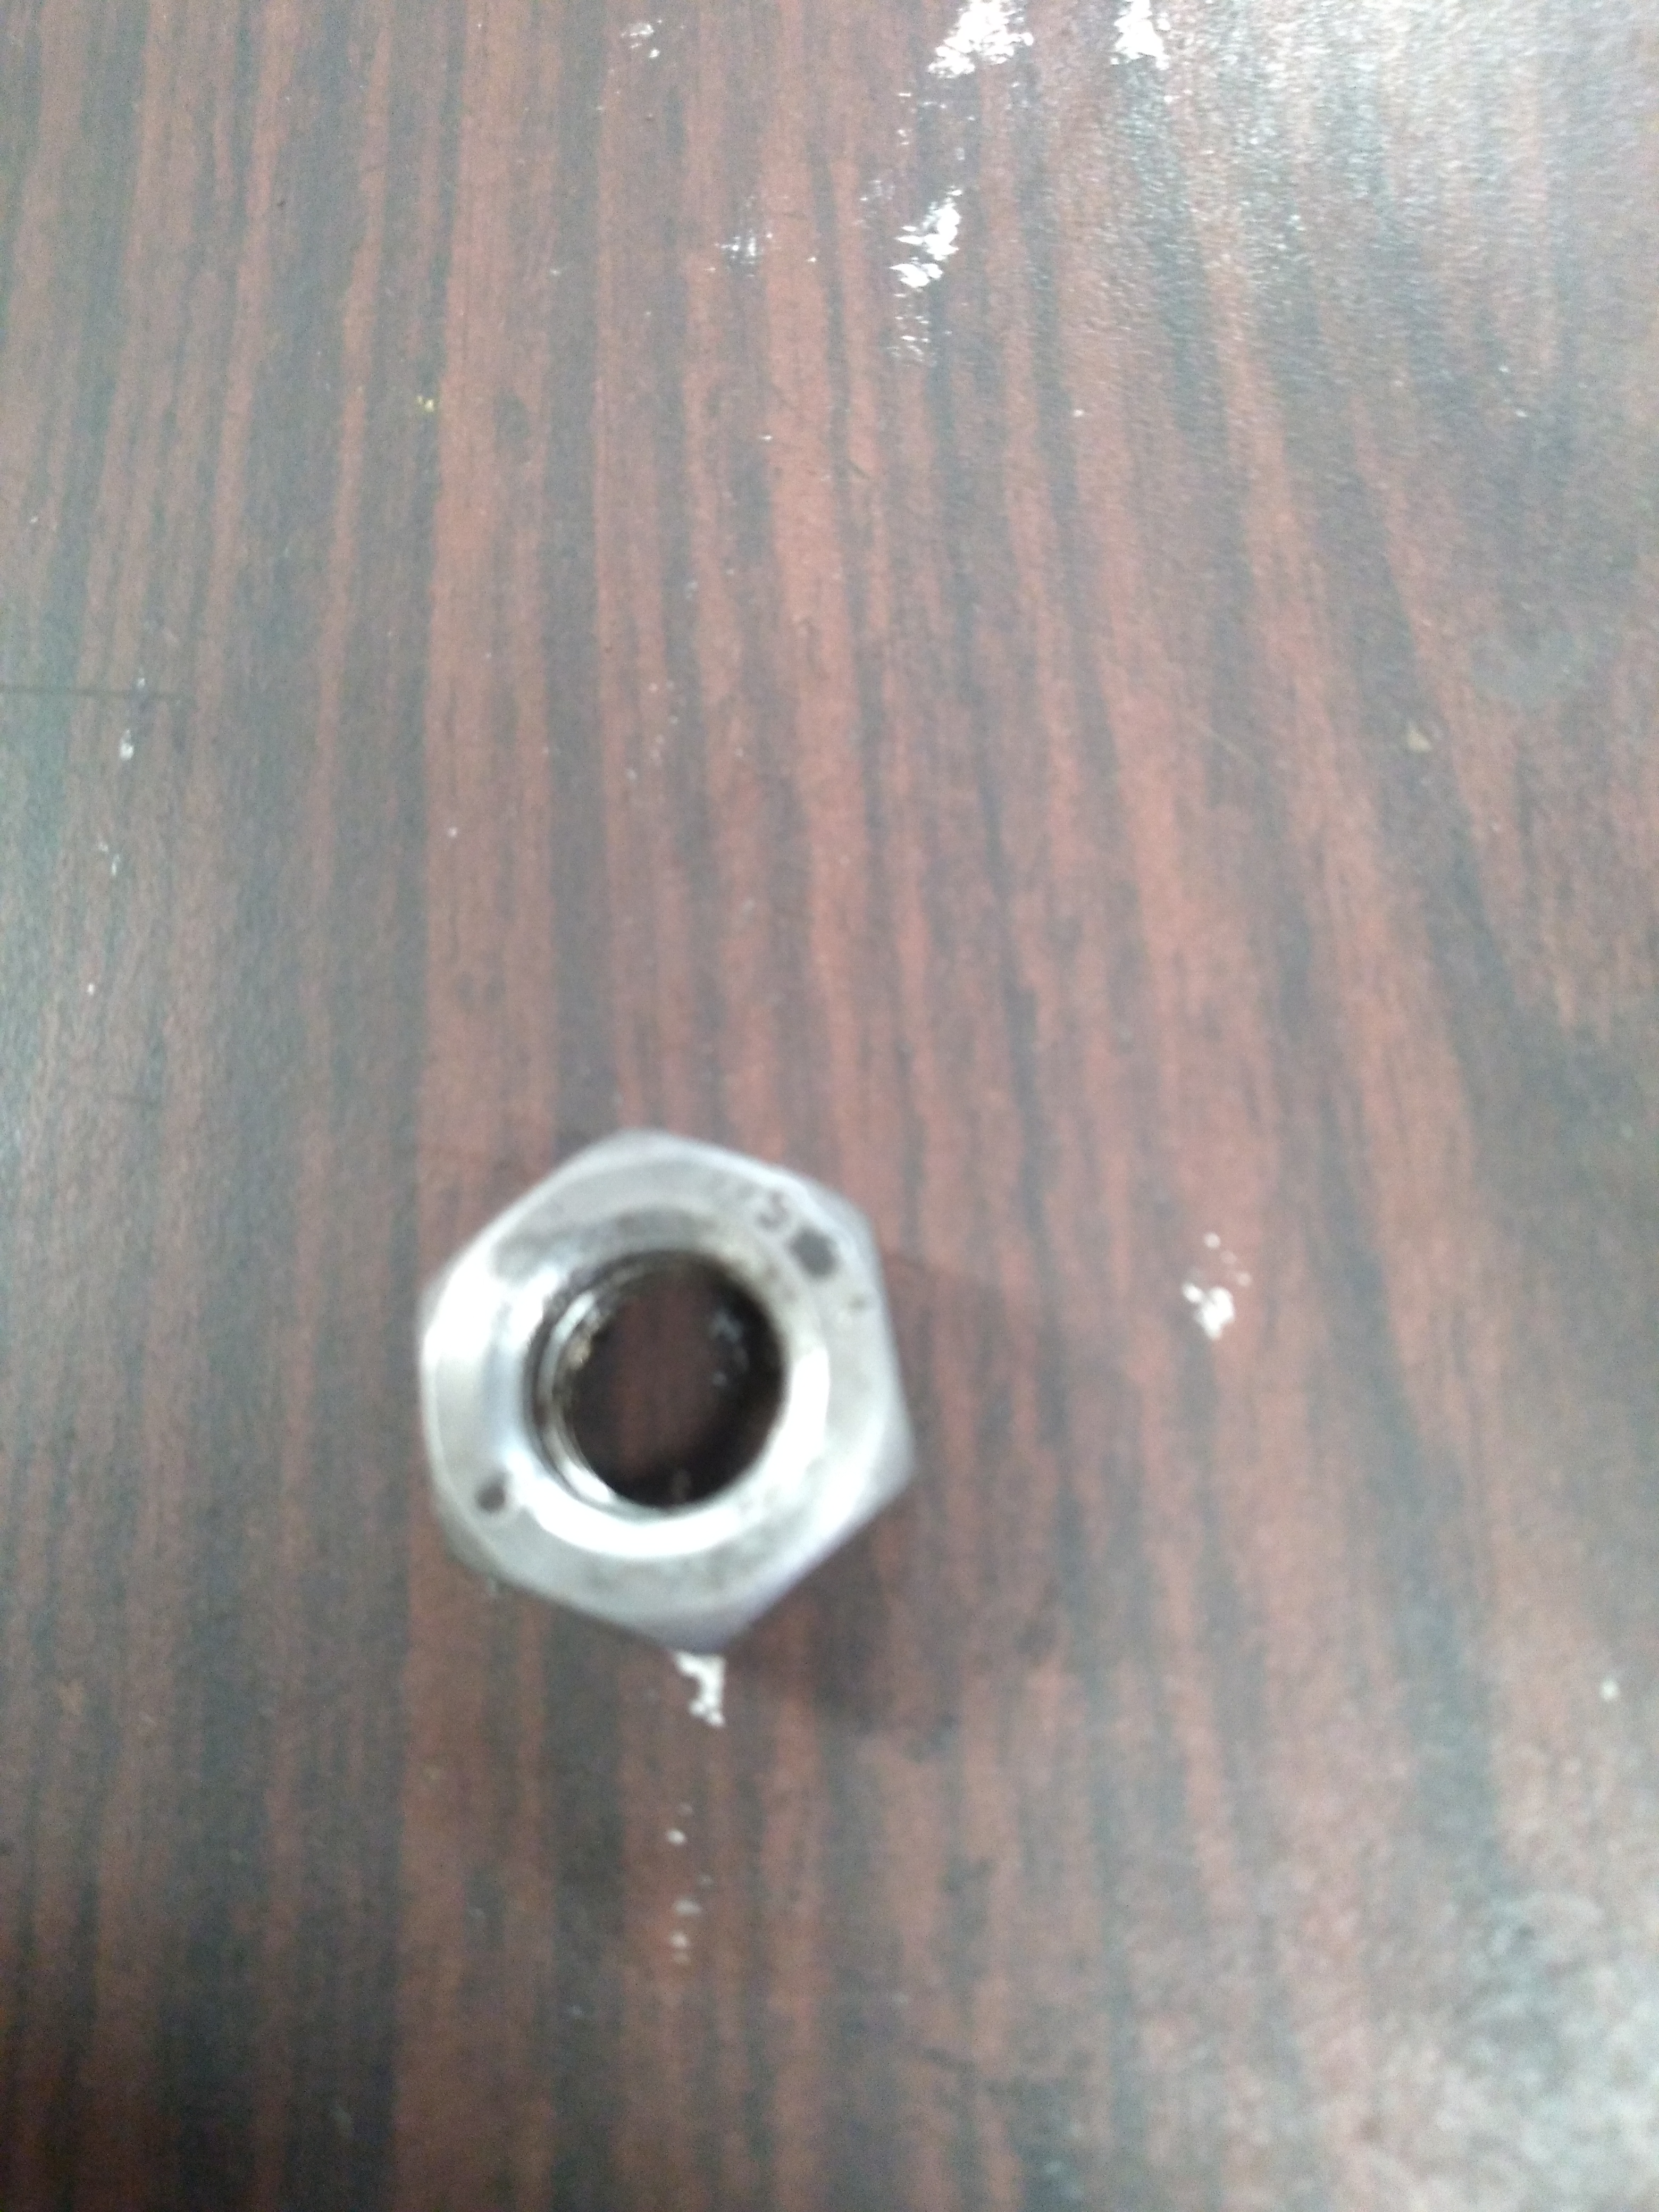Thread: (458, 1242, 823, 1545)
